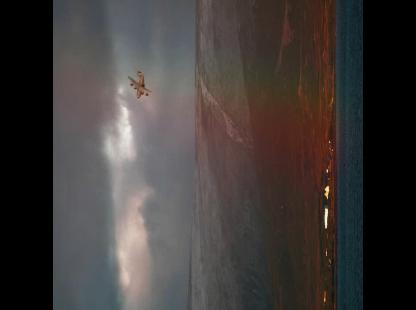A400M: (128, 66, 152, 96)
